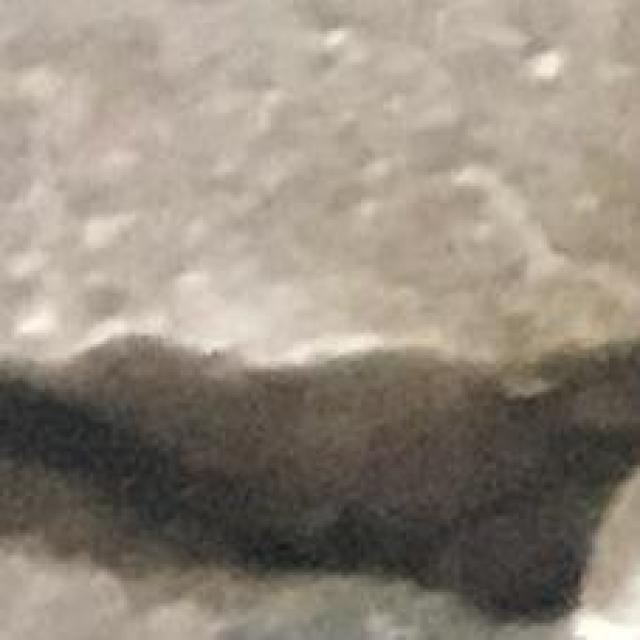horizontal crack: (0, 338, 639, 623)
